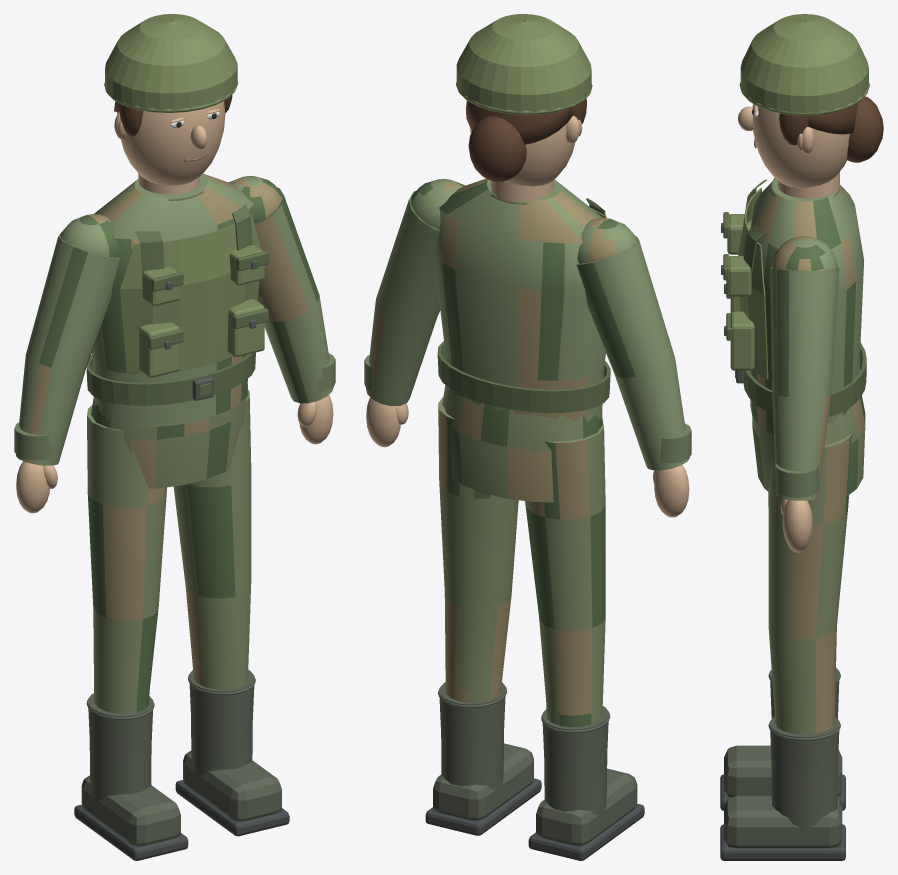
The model's file is soldier_woodland_2.glb.
The picture shows the model from 3 angles, left to right: view 1: azimuth 30°, elevation 25°; view 2: azimuth 150°, elevation 25°; view 3: azimuth 270°, elevation 25°; orthographic projection.
Visible parts, largest first — view 1: Woodland_Soldier_2_Trouser_Leg, Woodland_Soldier_2_Trouser_Leg.001, Woodland_Soldier_2_Torso_And_Main_Clothes, Woodland_Soldier_2_Long_Sleeve, Woodland_Soldier_2_Fitted_Field_Vest, Woodland_Soldier_2_Open_Face_Helmet, Woodland_Soldier_2_Long_Sleeve.001, Woodland_Soldier_2_Connected_Hip_Garment, Woodland_Soldier_2_Head, Woodland_Soldier_2_High_Boot_Shaft, Woodland_Soldier_2_High_Boot_Shaft.001, Woodland_Soldier_2_Shoe_Upper (+15 smaller); view 2: Woodland_Soldier_2_Torso_And_Main_Clothes, Woodland_Soldier_2_Trouser_Leg, Woodland_Soldier_2_Trouser_Leg.001, Woodland_Soldier_2_Long_Sleeve, Woodland_Soldier_2_Open_Face_Helmet, Woodland_Soldier_2_Connected_Hip_Garment, Woodland_Soldier_2_Long_Sleeve.001, Woodland_Soldier_2_High_Boot_Shaft, Woodland_Soldier_2_High_Boot_Shaft.001, Woodland_Soldier_2_Waist_Belt, Woodland_Soldier_2_Shoe_Upper, Woodland_Soldier_2_Shoe_Upper.001 (+11 smaller); view 3: Woodland_Soldier_2_Trouser_Leg.001, Woodland_Soldier_2_Long_Sleeve.001, Woodland_Soldier_2_Torso_And_Main_Clothes, Woodland_Soldier_2_Open_Face_Helmet, Woodland_Soldier_2_High_Boot_Shaft.001, Woodland_Soldier_2_Shoe_Upper.001, Woodland_Soldier_2_Head, Woodland_Soldier_2_Connected_Hip_Garment, Woodland_Soldier_2_Shoe_Upper, Woodland_Soldier_2_Fitted_Field_Vest, Woodland_Soldier_2_Shoe_Sole.001, Woodland_Soldier_2_Rounded_Shoulder_Cloth.001 (+13 smaller).
Boxes of the visible parts, bbox=[...] form: Woodland_Soldier_2_Trouser_Leg: bbox=[87, 405, 166, 713]; Woodland_Soldier_2_Trouser_Leg.001: bbox=[173, 390, 251, 689]; Woodland_Soldier_2_Torso_And_Main_Clothes: bbox=[92, 173, 254, 427]; Woodland_Soldier_2_Long_Sleeve: bbox=[16, 233, 120, 465]; Woodland_Soldier_2_Fitted_Field_Vest: bbox=[120, 215, 261, 373]; Woodland_Soldier_2_Open_Face_Helmet: bbox=[105, 14, 237, 111]; Woodland_Soldier_2_Long_Sleeve.001: bbox=[254, 187, 333, 403]; Woodland_Soldier_2_Connected_Hip_Garment: bbox=[91, 385, 248, 488]; Woodland_Soldier_2_Head: bbox=[117, 101, 225, 185]; Woodland_Soldier_2_High_Boot_Shaft: bbox=[88, 693, 153, 801]; Woodland_Soldier_2_High_Boot_Shaft.001: bbox=[189, 670, 254, 777]; Woodland_Soldier_2_Shoe_Upper: bbox=[81, 775, 180, 846]; Woodland_Soldier_2_Torso_And_Main_Clothes: bbox=[434, 178, 605, 421]; Woodland_Soldier_2_Trouser_Leg: bbox=[525, 420, 605, 727]; Woodland_Soldier_2_Trouser_Leg.001: bbox=[438, 397, 518, 702]; Woodland_Soldier_2_Long_Sleeve: bbox=[576, 236, 689, 470]; Woodland_Soldier_2_Open_Face_Helmet: bbox=[456, 14, 591, 113]; Woodland_Soldier_2_Connected_Hip_Garment: bbox=[442, 385, 602, 502]; Woodland_Soldier_2_Long_Sleeve.001: bbox=[366, 191, 440, 406]; Woodland_Soldier_2_High_Boot_Shaft: bbox=[542, 706, 608, 816]; Woodland_Soldier_2_High_Boot_Shaft.001: bbox=[439, 682, 505, 791]; Woodland_Soldier_2_Waist_Belt: bbox=[437, 341, 610, 413]; Woodland_Soldier_2_Shoe_Upper: bbox=[536, 768, 637, 845]; Woodland_Soldier_2_Shoe_Upper.001: bbox=[433, 743, 533, 820]; Woodland_Soldier_2_Trouser_Leg.001: bbox=[768, 433, 852, 734]; Woodland_Soldier_2_Long_Sleeve.001: bbox=[770, 267, 839, 500]; Woodland_Soldier_2_Torso_And_Main_Clothes: bbox=[749, 178, 864, 434]; Woodland_Soldier_2_Open_Face_Helmet: bbox=[740, 14, 868, 114]; Woodland_Soldier_2_High_Boot_Shaft.001: bbox=[770, 716, 839, 829]; Woodland_Soldier_2_Shoe_Upper.001: bbox=[724, 795, 842, 848]; Woodland_Soldier_2_Head: bbox=[752, 104, 849, 187]; Woodland_Soldier_2_Connected_Hip_Garment: bbox=[752, 395, 865, 495]; Woodland_Soldier_2_Shoe_Upper: bbox=[724, 745, 842, 797]; Woodland_Soldier_2_Fitted_Field_Vest: bbox=[738, 188, 768, 379]; Woodland_Soldier_2_Shoe_Sole.001: bbox=[720, 824, 845, 860]; Woodland_Soldier_2_Rounded_Shoulder_Cloth.001: bbox=[771, 236, 838, 270].
Bounding box in the file's own units: 0.6997 × 1.68 × 0.3105.
